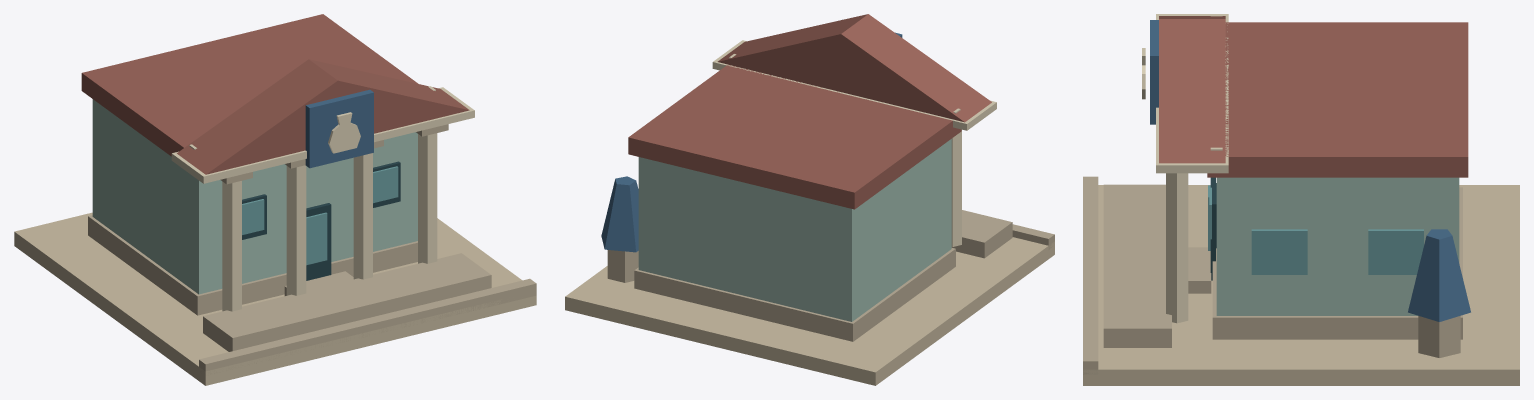
Rendered from museum-seabreeze-complete.glb.
The picture shows the model from 3 angles, left to right: view 1: azimuth 30°, elevation 25°; view 2: azimuth 150°, elevation 25°; view 3: azimuth 270°, elevation 25°; orthographic projection. The views are drawn at different scales.
Parts seen in each view (by area): view 1: museum; view 2: museum; view 3: museum.
Boxes of the visible parts, x1,y1,x2,y2 form: museum: (14,14,536,385); museum: (565,14,1054,385); museum: (1083,14,1519,385).
Size of the model in its own units: 2.88 by 2 by 2.88.
